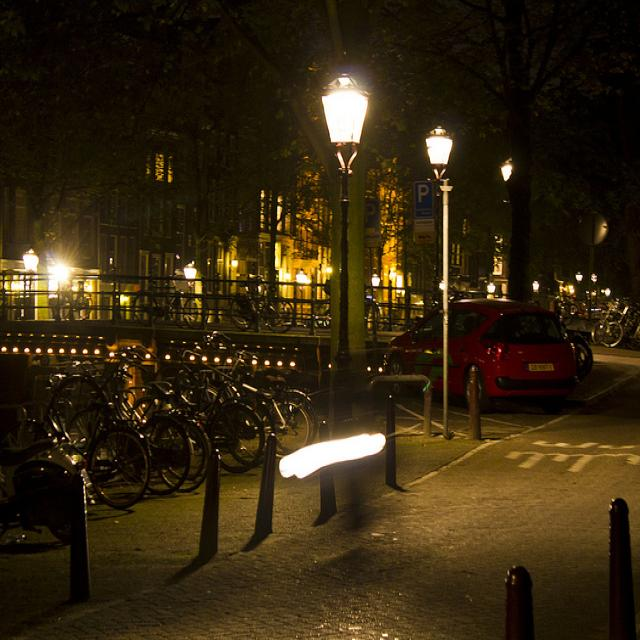Bicycle: (125, 318, 323, 495), (44, 333, 225, 525), (0, 344, 110, 548), (222, 322, 363, 456), (567, 268, 640, 357)
car: (397, 293, 585, 450)
